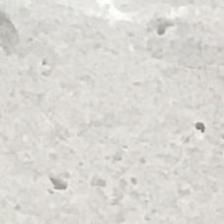Non_Crack: (26, 1, 190, 181)
